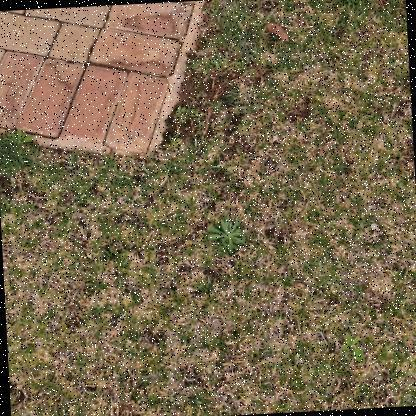Weeds: (206, 214, 246, 255), (340, 331, 365, 365), (3, 128, 33, 146), (211, 54, 226, 71), (235, 60, 246, 73), (175, 106, 186, 118)
